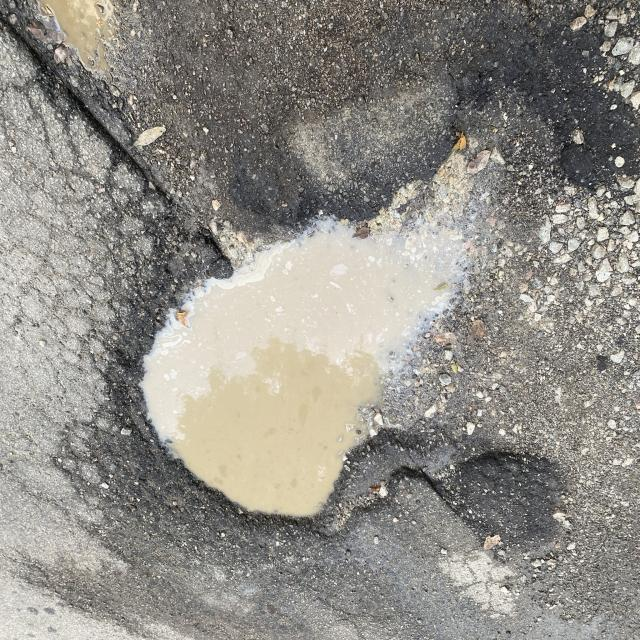Pothole: (89, 281, 498, 567), (2, 12, 195, 238)
